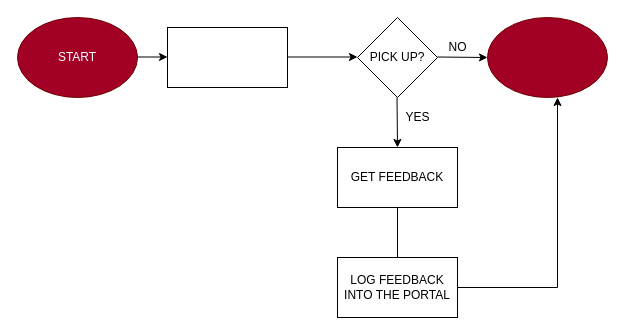
This 625x335 diagram has some shape labels left out. The box of each missing label's shape, as (x1, y1, x2, y2) in pixels:
CALL CLIENT: (166, 26, 288, 88)
END: (486, 16, 608, 98)
